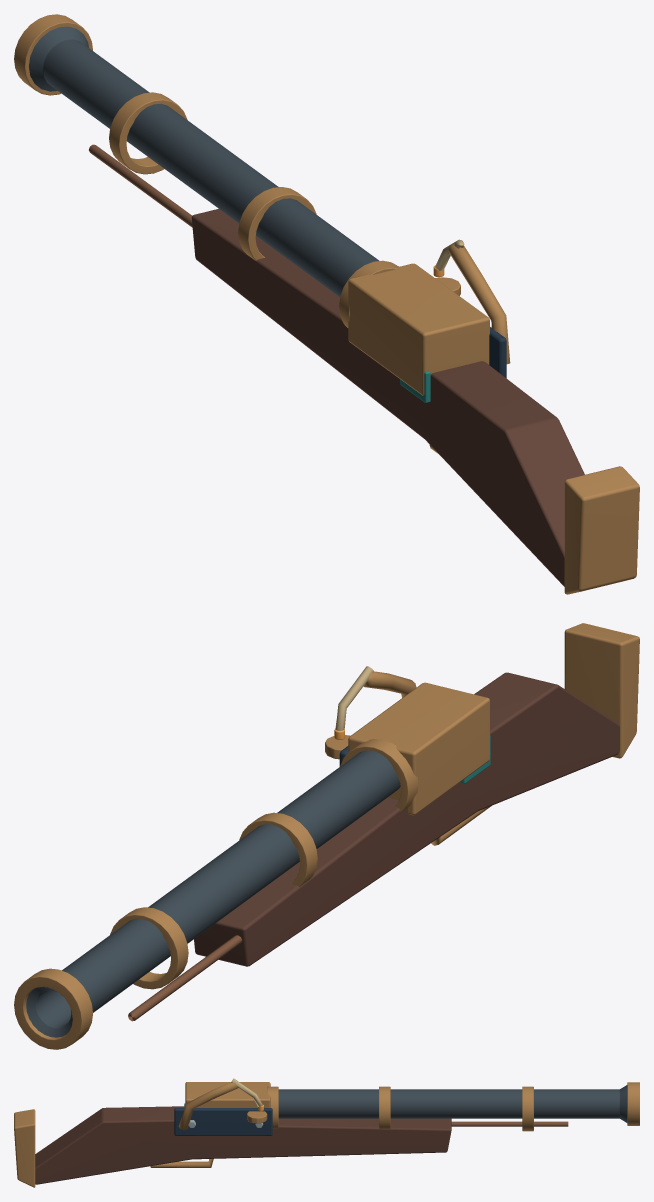
The model's file is matchlock.glb.
3 views of the same model, one above another, from view 1: azimuth 30°, elevation 25°; view 2: azimuth 150°, elevation 25°; view 3: azimuth 270°, elevation 25° (orthographic). The views are drawn at different scales.
Parts seen in each view (by area): view 1: v2_matchlock__walnut_stock, v2_matchlock__long_barrel, v2_matchlock__breech, v2_matchlock__butt_cap, v2_matchlock__barrel_band_0, v2_matchlock__muzzle_lip, v2_matchlock__serpentine_match_arm, v2_matchlock__barrel_band_1, v2_matchlock__underbarrel_rod, v2_matchlock__barrel_band_2; view 2: v2_matchlock__walnut_stock, v2_matchlock__long_barrel, v2_matchlock__breech, v2_matchlock__butt_cap, v2_matchlock__muzzle_lip, v2_matchlock__barrel_band_0, v2_matchlock__barrel_band_1, v2_matchlock__barrel_band_2, v2_matchlock__underbarrel_rod, v2_matchlock__serpentine_match_arm, v2_matchlock__match_cord; view 3: v2_matchlock__walnut_stock, v2_matchlock__long_barrel, v2_matchlock__side_plate, v2_matchlock__breech, v2_matchlock__butt_cap, v2_matchlock__serpentine_match_arm, v2_matchlock__underbarrel_rod, v2_matchlock__muzzle_lip, v2_matchlock__barrel_band_0, v2_matchlock__barrel_band_1, v2_matchlock__guard, v2_matchlock__barrel_band_2 (+2 smaller).
Part boxes in pixels (x1,y1,x2,y2): v2_matchlock__walnut_stock: [191, 209, 584, 586]; v2_matchlock__long_barrel: [29, 26, 379, 296]; v2_matchlock__breech: [348, 263, 489, 395]; v2_matchlock__butt_cap: [564, 466, 639, 594]; v2_matchlock__barrel_band_0: [109, 92, 187, 174]; v2_matchlock__muzzle_lip: [14, 14, 92, 95]; v2_matchlock__serpentine_match_arm: [448, 244, 510, 364]; v2_matchlock__barrel_band_1: [238, 187, 316, 260]; v2_matchlock__underbarrel_rod: [89, 144, 192, 227]; v2_matchlock__barrel_band_2: [339, 260, 398, 327]; v2_matchlock__walnut_stock: [194, 672, 619, 966]; v2_matchlock__long_barrel: [26, 750, 400, 1037]; v2_matchlock__breech: [348, 682, 489, 815]; v2_matchlock__butt_cap: [564, 623, 639, 758]; v2_matchlock__muzzle_lip: [14, 968, 92, 1049]; v2_matchlock__barrel_band_0: [110, 907, 188, 989]; v2_matchlock__barrel_band_1: [239, 812, 317, 886]; v2_matchlock__barrel_band_2: [340, 739, 418, 812]; v2_matchlock__underbarrel_rod: [128, 935, 242, 1021]; v2_matchlock__serpentine_match_arm: [363, 671, 416, 697]; v2_matchlock__match_cord: [335, 666, 373, 730]; v2_matchlock__walnut_stock: [35, 1106, 451, 1184]; v2_matchlock__long_barrel: [278, 1085, 627, 1122]; v2_matchlock__side_plate: [174, 1108, 272, 1135]; v2_matchlock__breech: [185, 1082, 270, 1107]; v2_matchlock__butt_cap: [14, 1109, 35, 1187]; v2_matchlock__serpentine_match_arm: [178, 1082, 238, 1129]; v2_matchlock__underbarrel_rod: [451, 1121, 568, 1126]; v2_matchlock__muzzle_lip: [627, 1082, 639, 1125]; v2_matchlock__barrel_band_0: [522, 1086, 533, 1131]; v2_matchlock__barrel_band_1: [379, 1086, 390, 1128]; v2_matchlock__guard: [150, 1159, 213, 1167]; v2_matchlock__barrel_band_2: [267, 1086, 278, 1128].
Bounding box in the file's own units: 0.1438 × 0.2815 × 1.4.
